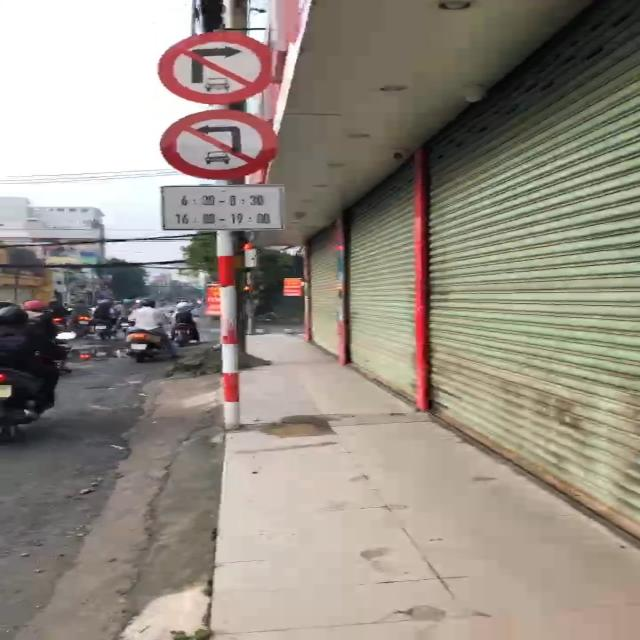Bien bao cam xe o to re phai: (154, 29, 291, 105)
Bien bao cam xe o to re trai: (151, 107, 288, 182)
